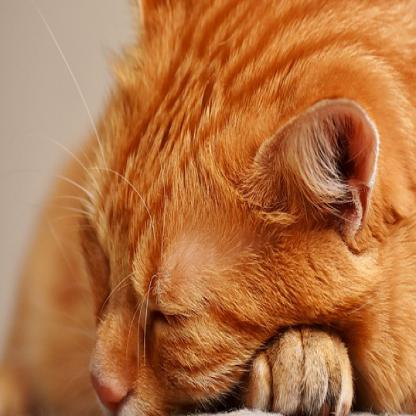cat: (72, 0, 415, 415)
